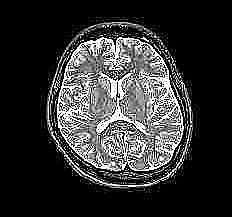Normal_Brain: (1, 4, 232, 217)
